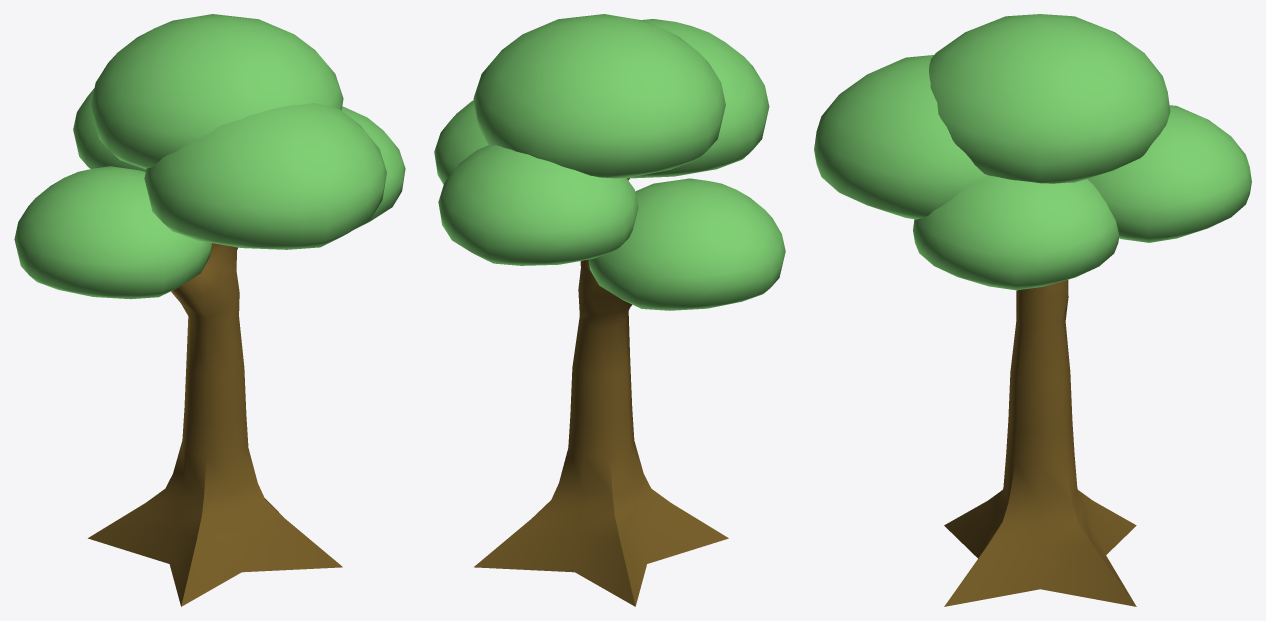
The model's file is tree1.fbx.
3 views of the same model, side by side, from view 1: azimuth 30°, elevation 25°; view 2: azimuth 150°, elevation 25°; view 3: azimuth 270°, elevation 25° (orthographic). The views are drawn at different scales.
Parts seen in each view (by area): view 1: tree1, Trunk; view 2: tree1, Trunk; view 3: tree1, Trunk.
Part boxes in pixels (x1,y1,x2,y2): tree1: [14, 14, 405, 299]; Trunk: [88, 243, 342, 606]; tree1: [434, 14, 785, 310]; Trunk: [474, 178, 728, 606]; tree1: [814, 14, 1251, 290]; Trunk: [944, 280, 1136, 606].
Size of what is drawn, in the model's own units: 5.61 by 5.99 by 8.14.
